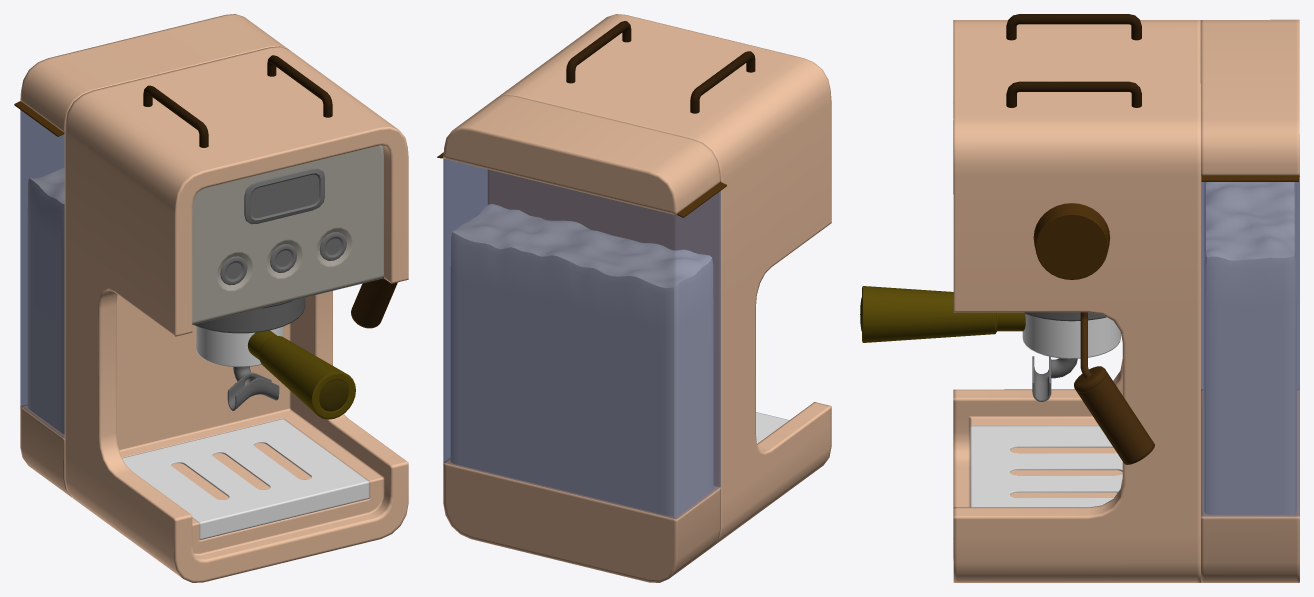
The model's file is coffee machine.fbx.
3 views of the same model, side by side, from view 1: azimuth 30°, elevation 25°; view 2: azimuth 150°, elevation 25°; view 3: azimuth 270°, elevation 25° (orthographic). The views are drawn at different scales.
Visible parts, largest first — view 1: pasted__main part low.005, pasted__main part low.006, pasted__Circle low.013, pasted__glass low.001, pasted__back part low.004, pasted__Plane low.001, pasted__Circle low.011, pasted__screen low.001, pasted__back part low.003, pasted__Circle low.016, pasted__Circle low.010, pasted__Circle low.017 (+6 smaller); view 2: pasted__glass low.001, pasted__Plane low.001, pasted__main part low.005, pasted__back part low.004, pasted__back part low.003, pasted__Circle low.010, pasted__Circle low.013; view 3: pasted__main part low.005, pasted__glass low.001, pasted__Plane low.001, pasted__back part low.004, pasted__Circle low.013, pasted__back part low.003, pasted__Circle low.011, pasted__Cylinder low.003, pasted__Circle low.010, pasted__iron handle low.002, pasted__Circle low.017, pasted__15.07_test low.001 (+1 smaller).
Part boxes in pixels (bbox=[...]): pasted__main part low.005: bbox=[64, 46, 408, 582]; pasted__main part low.006: bbox=[192, 145, 383, 324]; pasted__Circle low.013: bbox=[122, 418, 369, 539]; pasted__glass low.001: bbox=[20, 110, 64, 438]; pasted__back part low.004: bbox=[20, 14, 287, 134]; pasted__Plane low.001: bbox=[27, 167, 64, 434]; pasted__Circle low.011: bbox=[247, 330, 355, 419]; pasted__screen low.001: bbox=[244, 168, 324, 224]; pasted__back part low.003: bbox=[20, 404, 71, 497]; pasted__Circle low.016: bbox=[194, 297, 305, 333]; pasted__Circle low.010: bbox=[143, 55, 332, 147]; pasted__Circle low.017: bbox=[196, 326, 283, 367]; pasted__glass low.001: bbox=[443, 158, 720, 519]; pasted__Plane low.001: bbox=[450, 204, 713, 516]; pasted__main part low.005: bbox=[487, 14, 831, 546]; pasted__back part low.004: bbox=[443, 95, 720, 215]; pasted__back part low.003: bbox=[443, 457, 720, 582]; pasted__Circle low.010: bbox=[566, 21, 755, 113]; pasted__Circle low.013: bbox=[756, 412, 789, 443]; pasted__main part low.005: bbox=[953, 20, 1200, 582]; pasted__glass low.001: bbox=[1201, 177, 1299, 516]; pasted__Plane low.001: bbox=[1203, 182, 1296, 514]; pasted__back part low.004: bbox=[1200, 19, 1299, 176]; pasted__Circle low.013: bbox=[970, 425, 1122, 507]; pasted__back part low.003: bbox=[1201, 389, 1299, 582]; pasted__Circle low.011: bbox=[862, 286, 1025, 342]; pasted__Cylinder low.003: bbox=[1033, 203, 1110, 279]; pasted__Circle low.010: bbox=[1006, 14, 1141, 107]; pasted__iron handle low.002: bbox=[1077, 373, 1154, 464]; pasted__Circle low.017: bbox=[1022, 314, 1120, 358]; pasted__15.07_test low.001: bbox=[1032, 356, 1077, 401].
Size of the model in its own units: 16.22 by 22.89 by 18.75.
